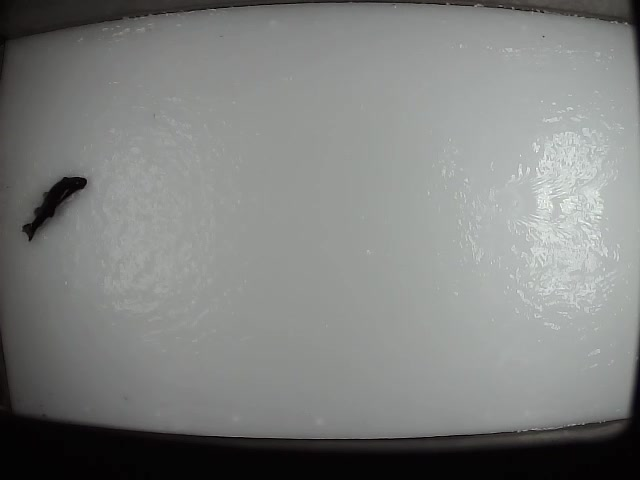Fish: (22, 176, 87, 242)
